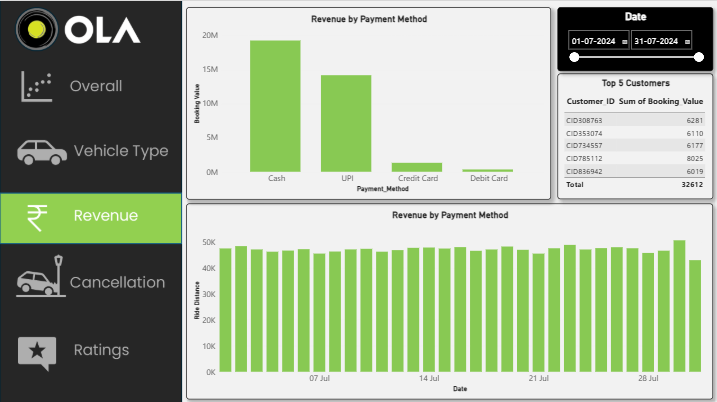

The dashboard page shown, as its layout file describes it:
{"tool":"powerbi","page":{"name":"Revenue","canvas":[1920,1080],"ordinal":2},"visuals":[{"type":"actionButton","box":[0,667.5,490.3,130.2],"z":0},{"type":"actionButton","box":[0,163.4,490.3,130.2],"z":1000},{"type":"actionButton","box":[0,335.1,490.3,130.2],"z":2000},{"type":"actionButton","box":[0,861.4,490.3,130.2],"z":3000},{"type":"columnChart","title":"Revenue by Payment Method","fields":{"Category":["July.Payment_Method"],"Y":["Sum(July.Booking_Value)"]},"box":[495,15,972.5,512.5],"z":4000},{"type":"columnChart","title":"Revenue by Payment Method","fields":{"Category":["July.Date"],"Y":["Sum(July.Ride_Distance)"]},"box":[495,540,1405,522.5],"z":5000},{"type":"slicer","title":"Date","fields":{"Values":["July.Date"]},"box":[1485,15,415,170],"z":6000},{"type":"tableEx","title":"Top 5 Customers","fields":{"Values":["July.Customer_ID","Sum(July.Booking_Value)"]},"box":[1485,192.5,415,335],"z":7000}]}

Visuals, with their boxes in screenshot pixels (x1, y1, x2, y2), scaled from the page's 1920x1080 canvas onto the 717x402 screenshot:
actionButton: l=0, t=248, r=183, b=297
actionButton: l=0, t=61, r=183, b=109
actionButton: l=0, t=125, r=183, b=173
actionButton: l=0, t=321, r=183, b=369
"Revenue by Payment Method" columnChart: l=185, t=6, r=548, b=196
"Revenue by Payment Method" columnChart: l=185, t=201, r=710, b=395
"Date" slicer: l=555, t=6, r=710, b=69
"Top 5 Customers" tableEx: l=555, t=72, r=710, b=196
